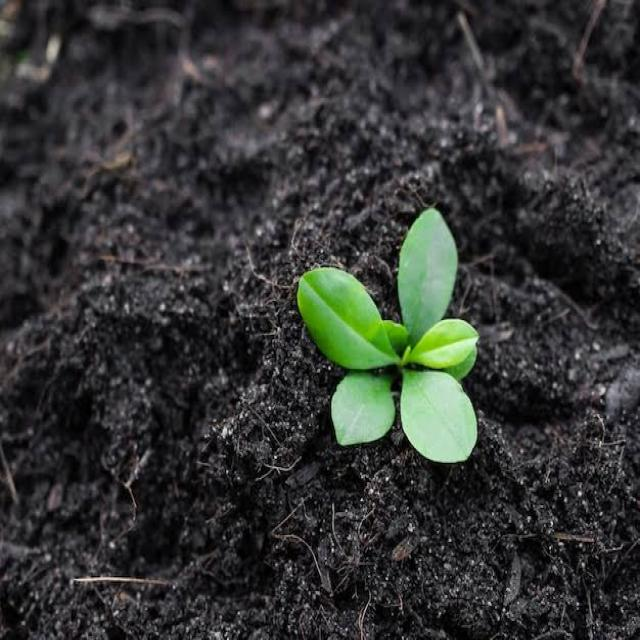suelo_humedo: (56, 90, 623, 593)
